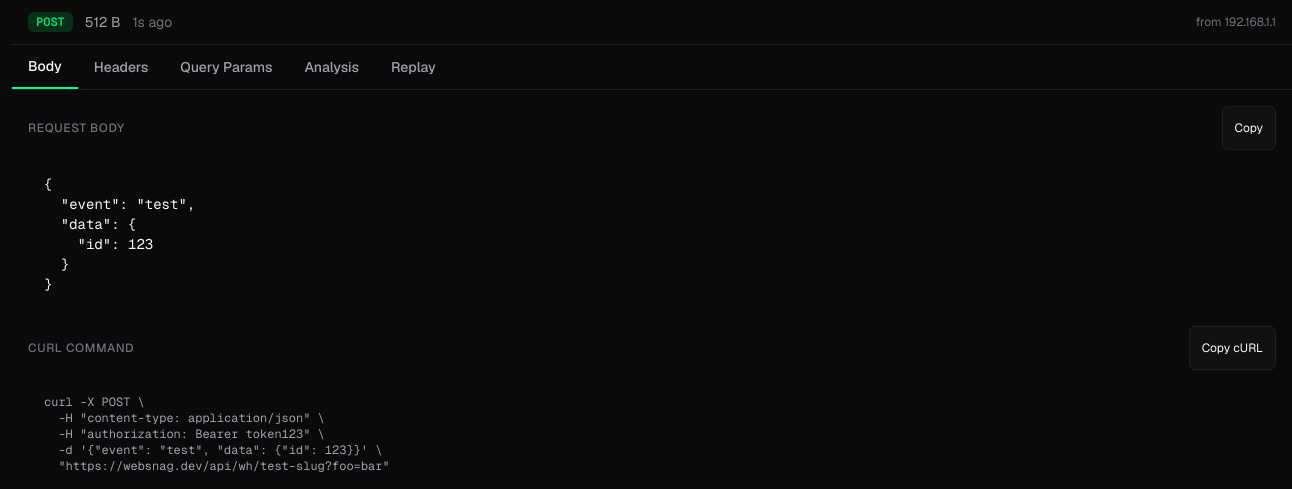
Test: RequestDetail › shows analysis placeholder when not analyzed
Click the tab "Analysis" at (332, 67), box [288,45,375,89]
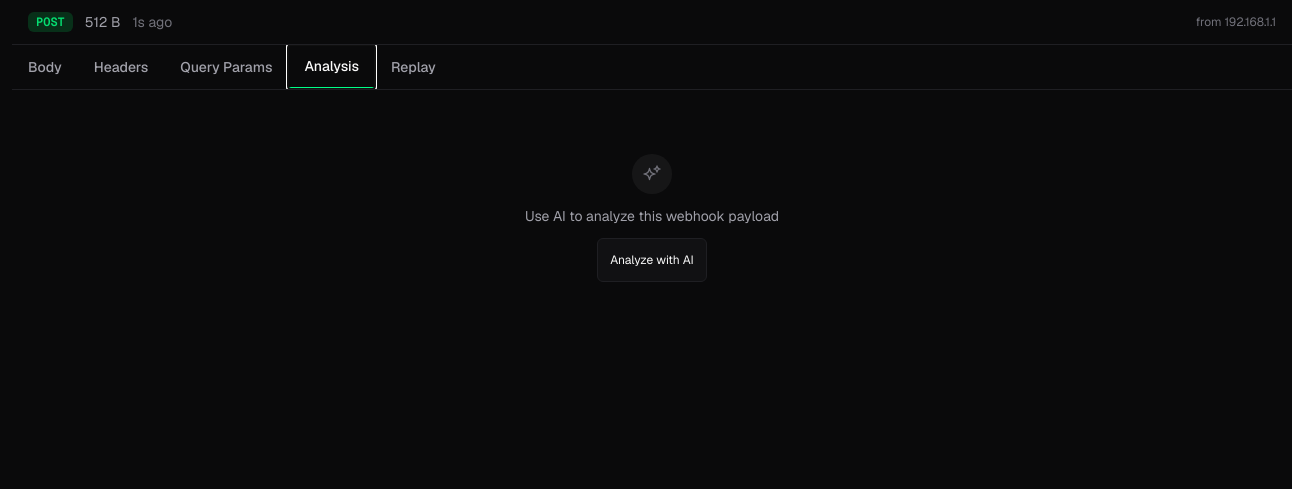
expect the button "Analyze with AI" is shown: met, box [597,238,707,282]
expect the text "Use AI to analyze this webhook payload" is shown: met, box [525,206,779,226]
